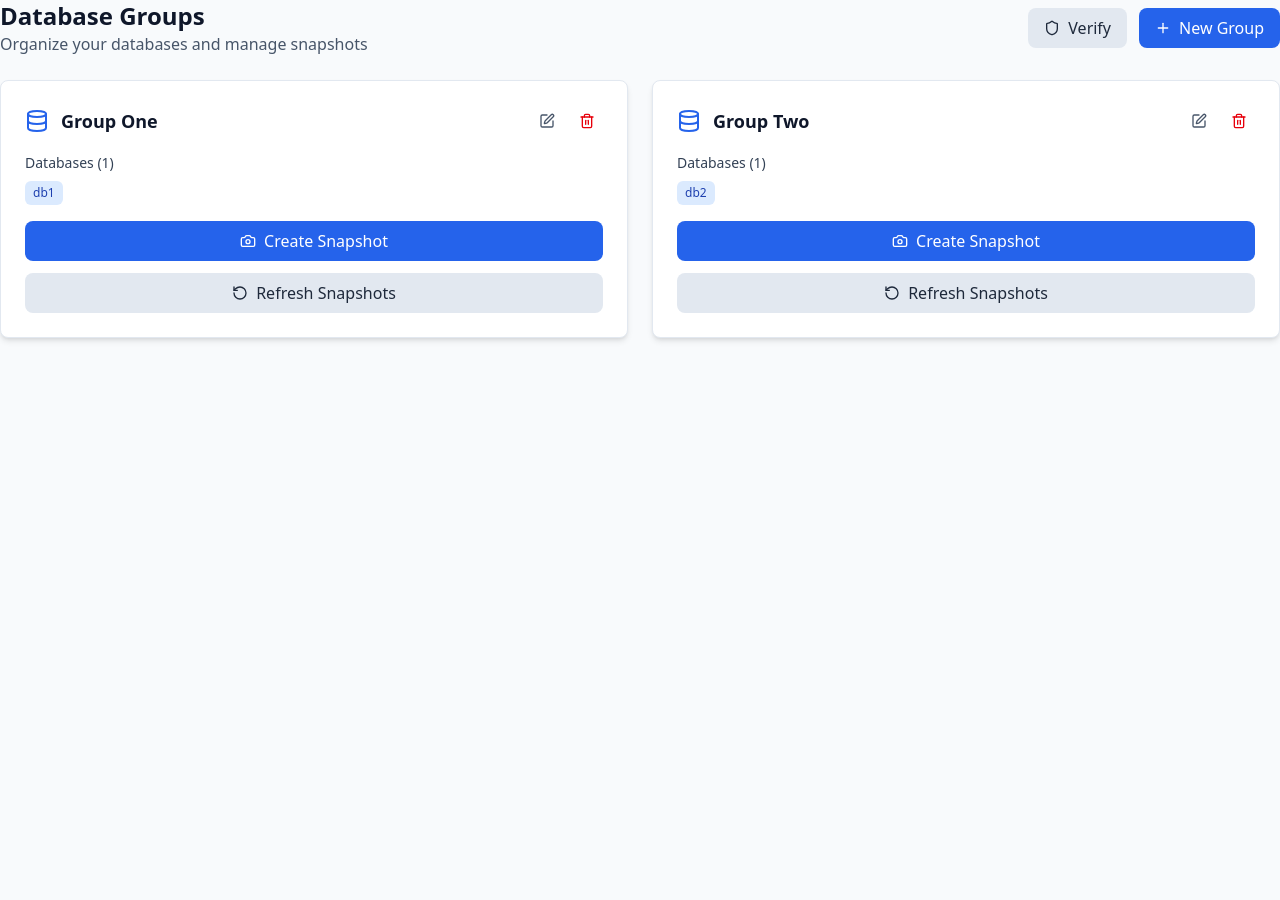
GroupsManager - Verify › shows a database-not-online banner instead of reporting all clear
Expected: the heading "Group One" is shown, [61,107,158,135]
Click the button with aria-label "Verify snapshot consistency". click: (1078, 28)
box: [1028,8,1127,48]
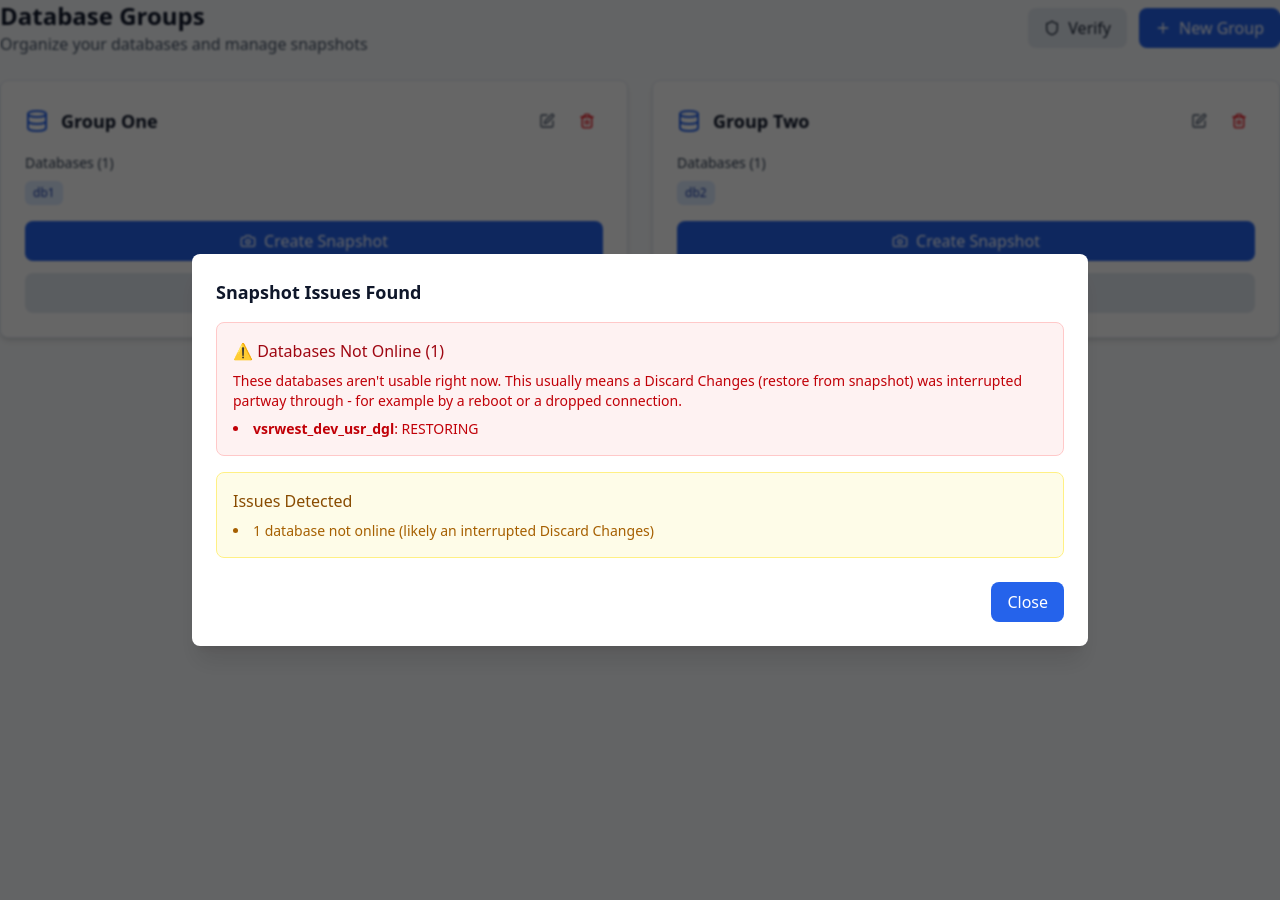
Result: the heading "⚠️ Databases Not Online (1)" is shown at [233,340,444,362]
Result: the text "vsrwest_dev_usr_dgl" is shown at [253,419,394,438]
Result: the list item "vsrwest_dev_usr_dgl: RESTORING" is shown at [253,419,478,438]
